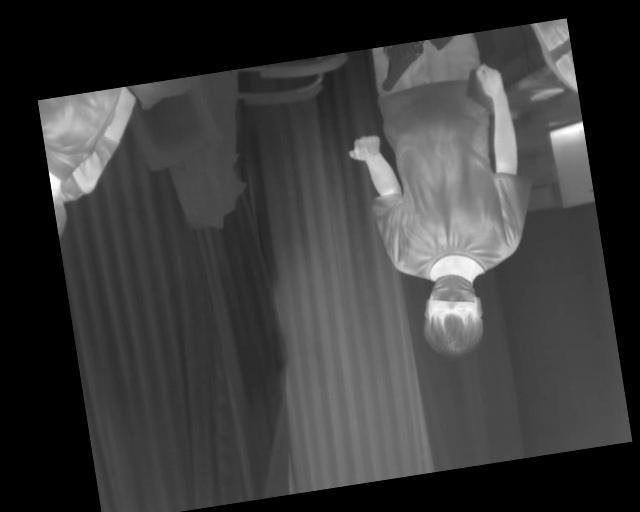face: (415, 268, 489, 360)
